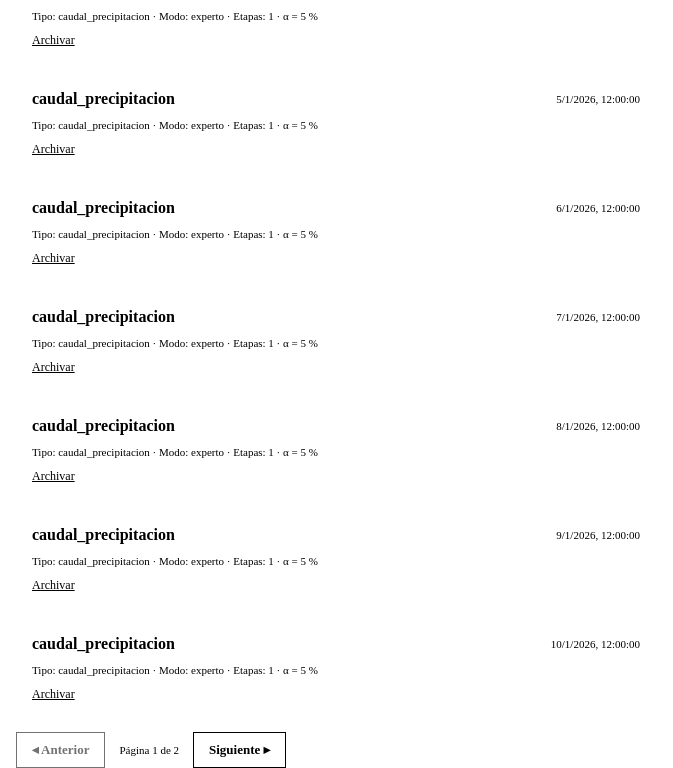
Test: HistoryPage › renders items and paginates client-side (10 per page)
This screenshot has width=673, height=768.
(page scrolled)
Expected: the text "Página 1 de 2" is shown, [119,744,179,756]
Expected: the button "◂ Anterior" is disabled, [16,732,105,767]
Click the button "Siguiente ▸".
click(240, 750)  # box [193,732,286,767]
(page scrolled)
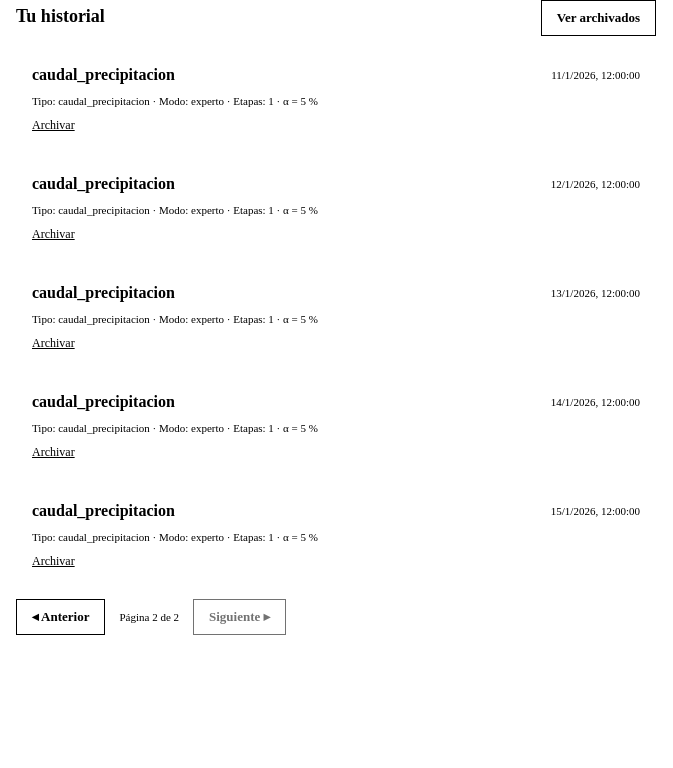
Now the text "Página 2 de 2" is shown, box [119,611,179,623]
Now the number of links is 5, box [32,66,640,107]; [32,175,640,216]; [32,284,640,325]; [32,393,640,434]; [32,502,640,543]
Now the button "Siguiente ▸" is disabled, box [193,599,286,635]
